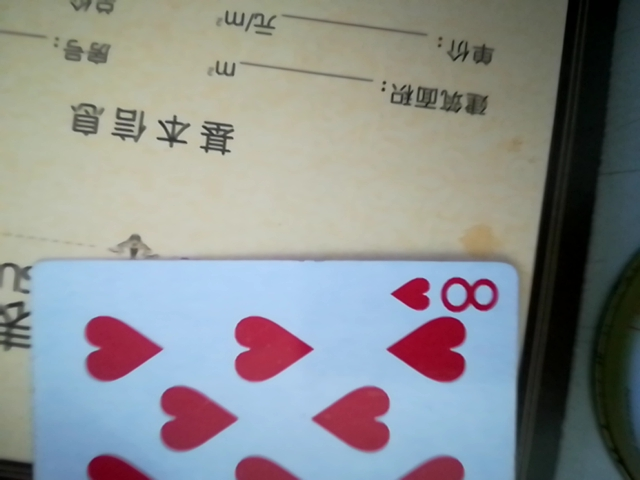hx 8: (17, 260, 528, 476)
